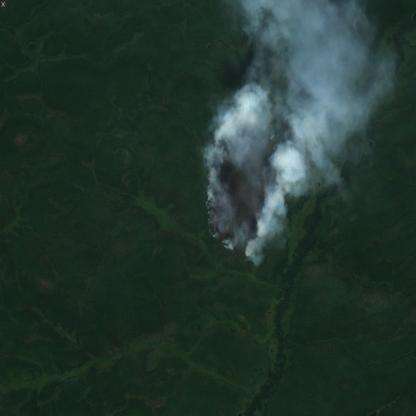fire: (201, 100, 286, 260)
